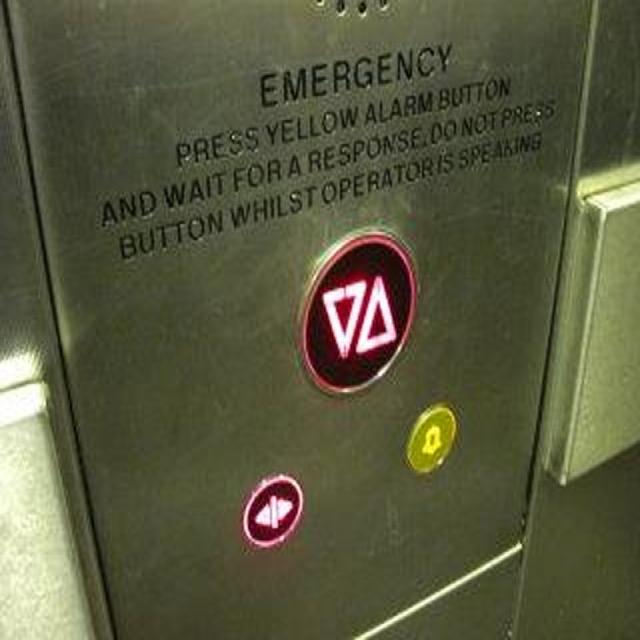alarm: (403, 399, 457, 477)
open: (241, 469, 304, 552)
updown: (291, 224, 416, 399)
